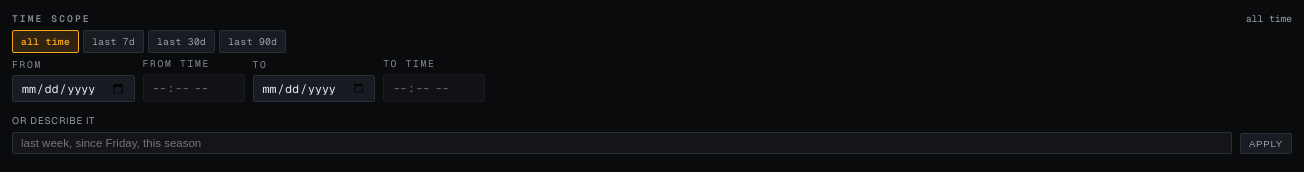
it: NarrowTimeScope custom range › keeps a minute bound inert until its own date is set
The width and height of the screenshot is (1304, 172).
Expected: the time field labelled "From time" is disabled, [142,74,245,102]
Expected: the time field labelled "To time" is disabled, [383,74,485,102]
In the date field labelled "From": (73, 88) [12,75,134,102], type "2026-01-07"
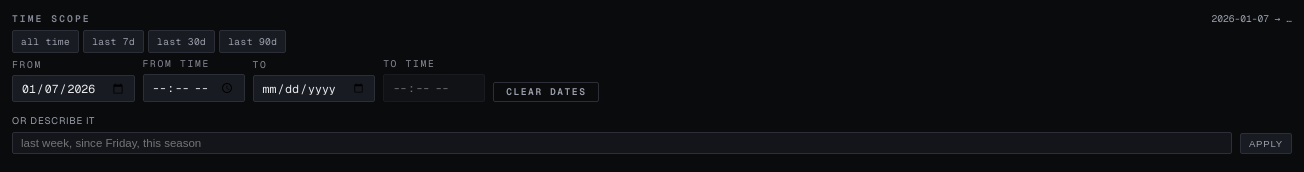
Expected: the time field labelled "To time" is disabled, [383,74,485,102]
Expected: the time field labelled "From time" is enabled, [142,74,245,102]
